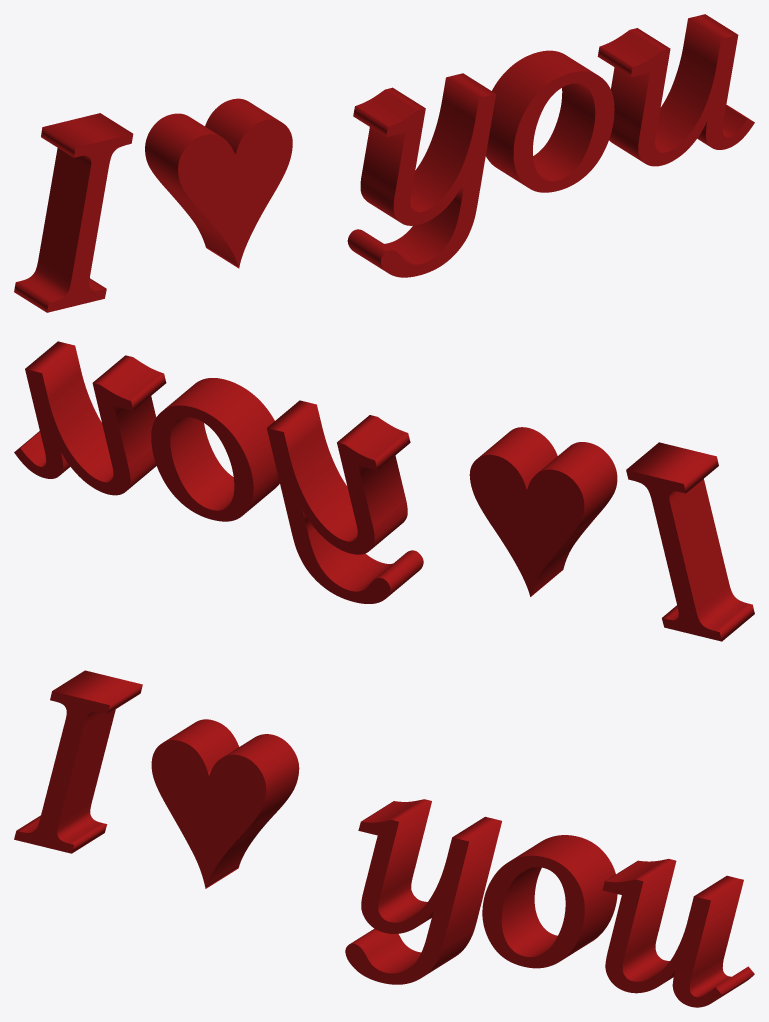
Rendered from loveintan.obj.
The picture shows the model from 3 angles, top to bottom: view 1: azimuth 30°, elevation 25°; view 2: azimuth 150°, elevation 25°; view 3: azimuth 330°, elevation 25°; orthographic projection.
Parts seen in each view (by area): view 1: Text_Intan; view 2: Text_Intan; view 3: Text_Intan.
Boxes of the visible parts, <box> form: Text_Intan: <box>14,14,754,312</box>; Text_Intan: <box>14,341,754,641</box>; Text_Intan: <box>14,670,754,1007</box>.
Bounding box in the file's own units: 2.47 × 0.6953 × 0.2392.
